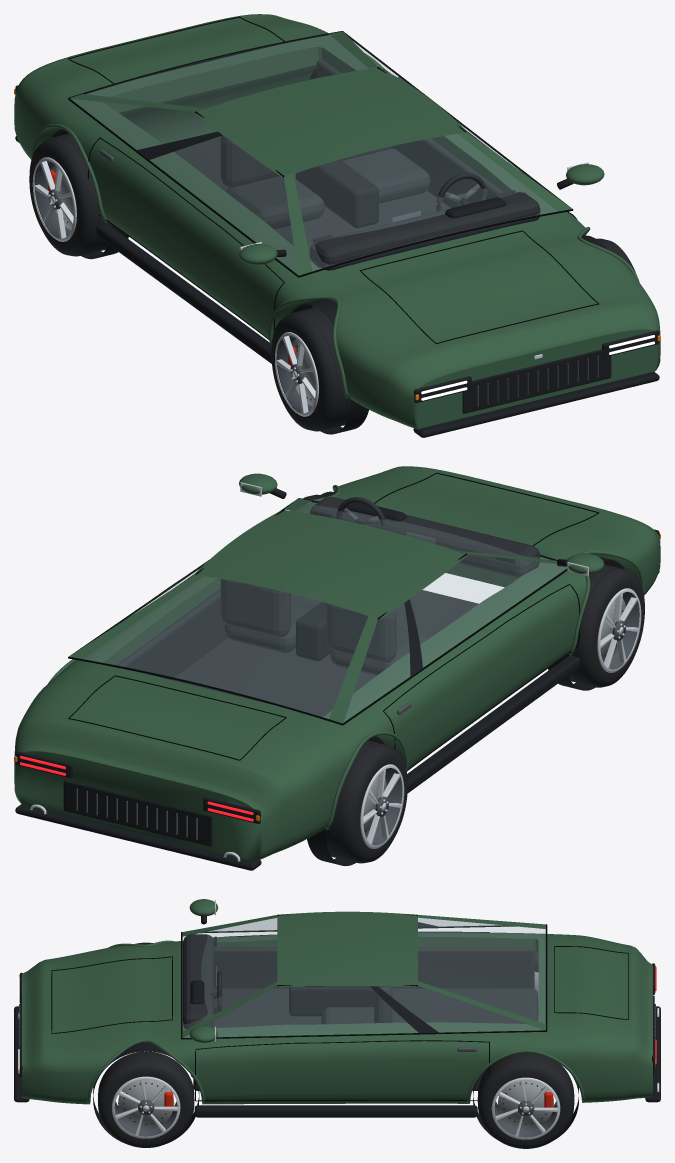
Rendered from spectre.glb.
The picture shows the model from 3 angles, top to bottom: view 1: azimuth 30°, elevation 25°; view 2: azimuth 150°, elevation 25°; view 3: azimuth 270°, elevation 25°; orthographic projection. The views are drawn at different scales.
Visible parts, largest first — view 1: Sculpted body shell.022, Painted roof.022, Windshield.022, Side glass.044, Rear glass.022, Interior dashboard.022, Tire.090, Front grille housing.022, Tire.088, Interior cabin floor.022, Rocker aero sill.044, Interior centre console.022 (+29 smaller); view 2: Sculpted body shell.022, Rear glass.022, Painted roof.022, Side glass.044, Interior cabin floor.022, Interior dashboard.022, Tire.088, Rear diffuser grille.022, Interior door card.045, Tire.090, Rocker aero sill.044, Interior seat back.071 (+26 smaller); view 3: Sculpted body shell.022, Side glass.045, Rear glass.022, Painted roof.022, Interior door card.044, Interior cabin floor.022, Windshield.022, Tire.091, Tire.089, Rocker aero sill.045, Interior dashboard.022, Interior centre console.022 (+26 smaller).
Boxes of the visible parts, <box> form: Sculpted body shell.022: <box>14,14,660,429</box>; Painted roof.022: <box>201,68,460,174</box>; Windshield.022: <box>294,134,557,270</box>; Side glass.044: <box>71,99,297,274</box>; Rear glass.022: <box>86,35,376,108</box>; Interior dashboard.022: <box>309,192,540,270</box>; Tire.090: <box>271,307,351,431</box>; Front grille housing.022: <box>462,349,611,413</box>; Tire.088: <box>29,133,111,256</box>; Interior cabin floor.022: <box>174,136,450,301</box>; Rocker aero sill.044: <box>96,224,271,363</box>; Interior centre console.022: <box>296,159,378,228</box>; Sculpted body shell.022: <box>14,466,660,861</box>; Rear glass.022: <box>84,576,367,718</box>; Painted roof.022: <box>202,511,460,616</box>; Side glass.044: <box>344,555,566,721</box>; Interior cabin floor.022: <box>171,590,478,716</box>; Interior dashboard.022: <box>309,496,540,577</box>; Tire.088: <box>325,740,407,863</box>; Rear diffuser grille.022: <box>63,780,212,846</box>; Interior door card.045: <box>114,589,227,679</box>; Tire.090: <box>565,564,644,687</box>; Rocker aero sill.044: <box>407,655,580,793</box>; Interior seat back.071: <box>220,579,290,637</box>; Sculpted body shell.022: <box>22,932,652,1104</box>; Side glass.045: <box>184,986,541,1037</box>; Rear glass.022: <box>418,918,545,1023</box>; Painted roof.022: <box>277,912,417,985</box>; Interior door card.044: <box>214,947,534,988</box>; Interior cabin floor.022: <box>190,988,537,1077</box>; Windshield.022: <box>182,918,276,1030</box>; Tire.091: <box>98,1051,194,1147</box>; Tire.089: <box>477,1052,574,1148</box>; Rocker aero sill.045: <box>194,1105,477,1117</box>; Interior dashboard.022: <box>183,934,214,1029</box>; Interior centre console.022: <box>289,986,373,1016</box>.
Size of the model in its own units: 2.53 by 1.25 by 4.95.
